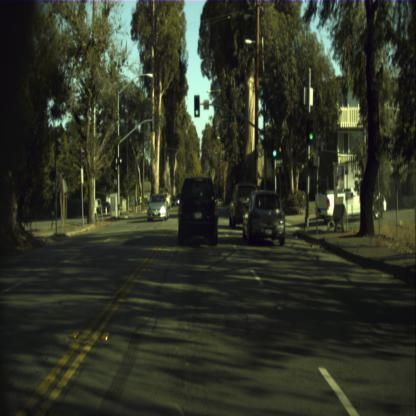Green: (306, 112, 315, 146), (271, 134, 277, 158), (194, 95, 199, 116)
